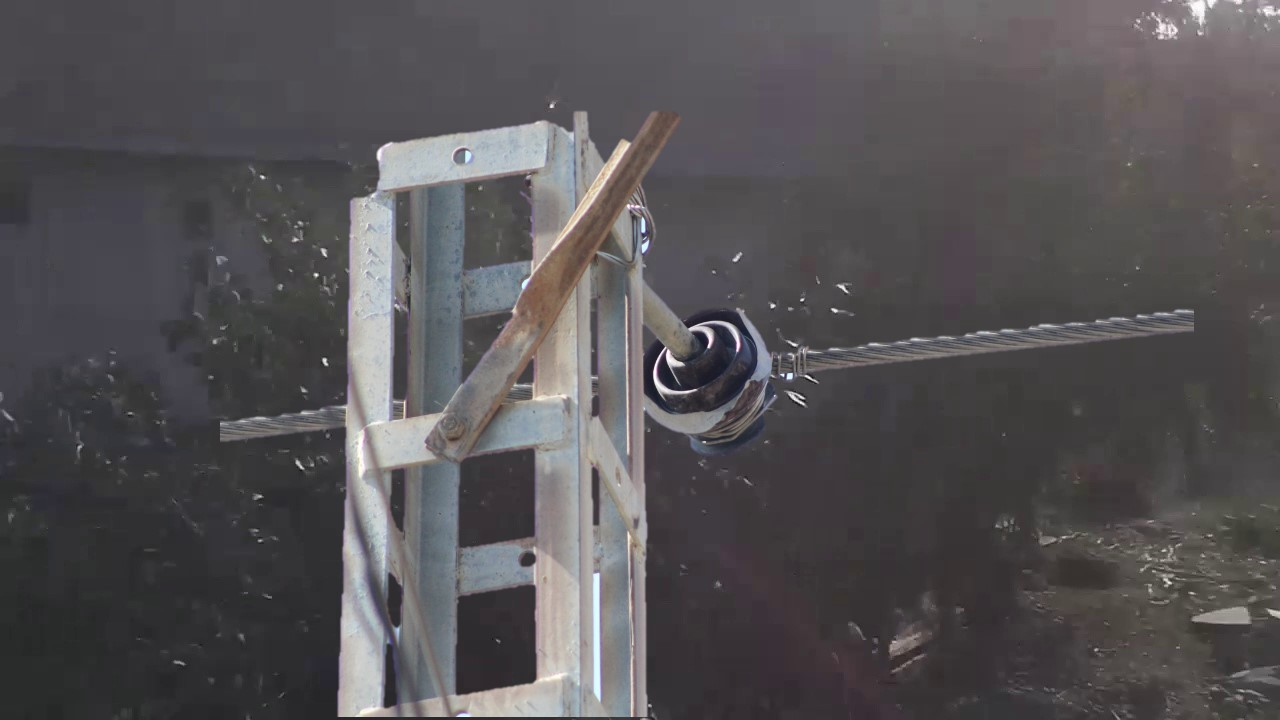defect_pin: (638, 306, 785, 455)
